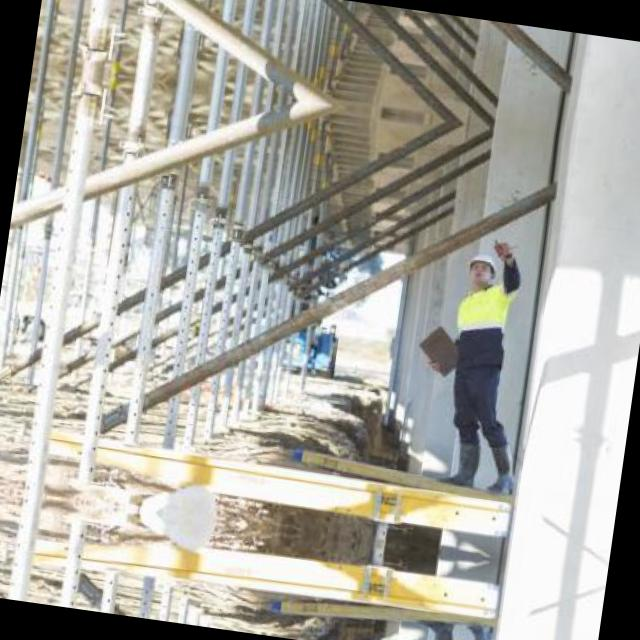helmet: (460, 242, 503, 294)
